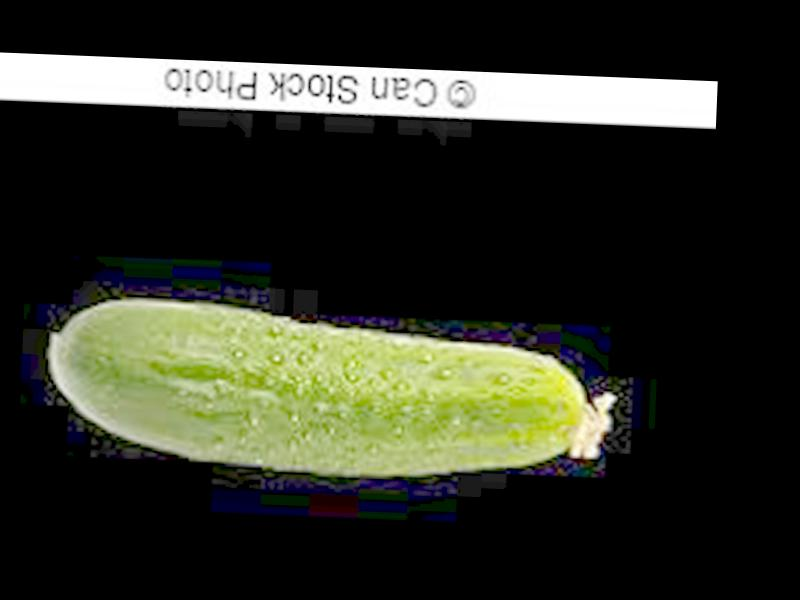Cucumber: (44, 297, 618, 486)
